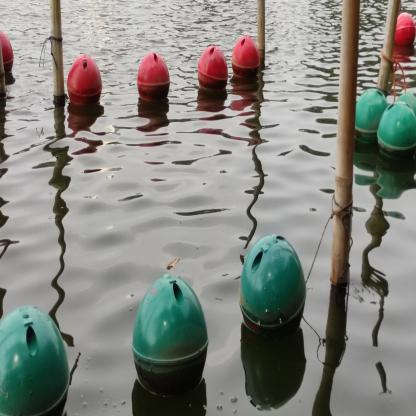green_buoy: (131, 270, 210, 398), (0, 303, 72, 416), (238, 233, 308, 338), (376, 101, 415, 164), (352, 83, 386, 144)
red_buoy: (66, 54, 104, 106), (136, 49, 172, 101), (196, 44, 230, 89), (230, 35, 262, 78), (394, 13, 415, 47), (0, 29, 13, 72)
